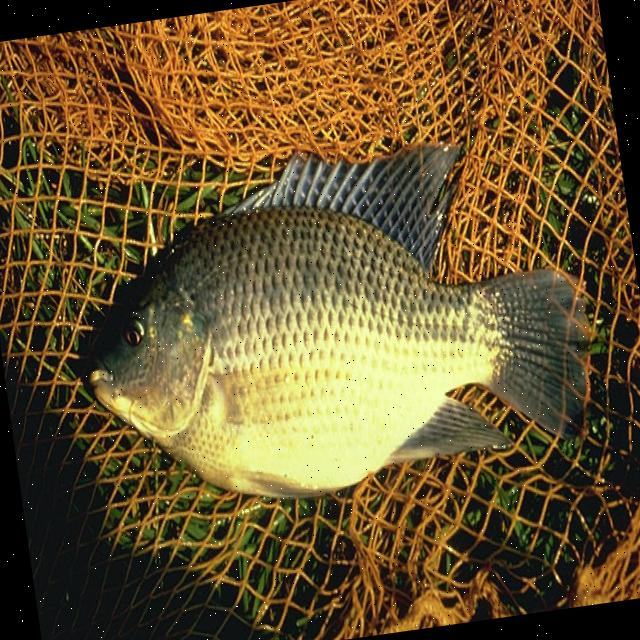ikan: (67, 157, 610, 528)
